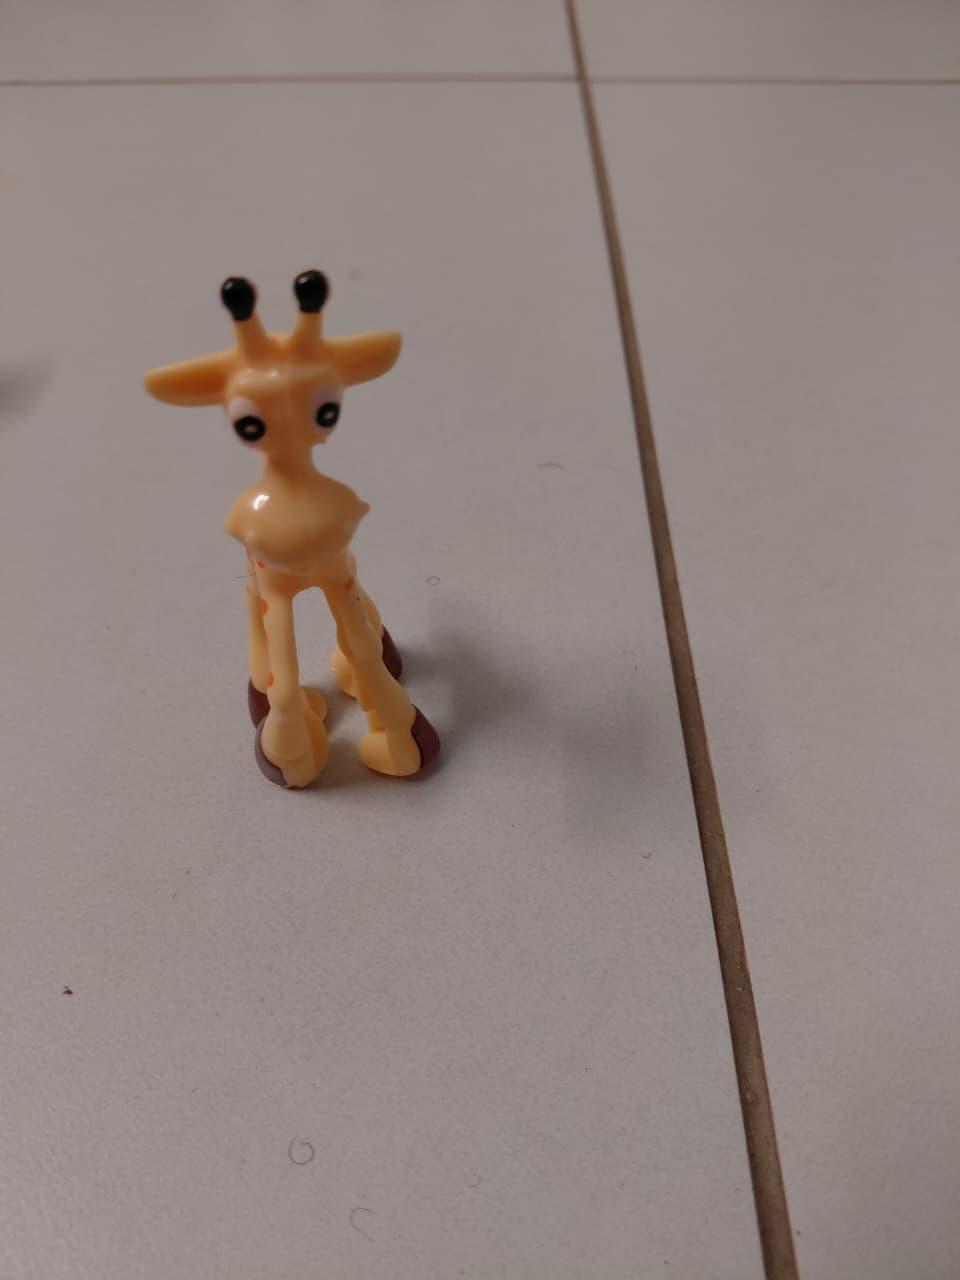giraffe: (108, 231, 500, 879)
